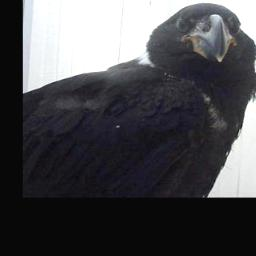Crow: (24, 1, 256, 197)
